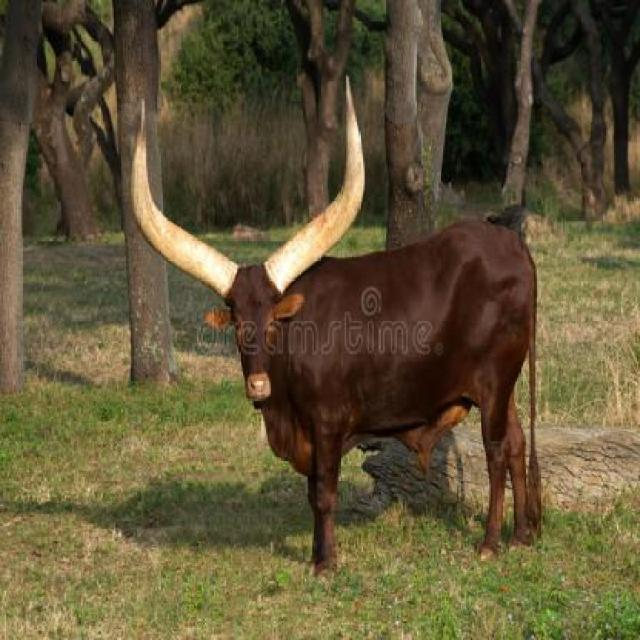Cow: (126, 97, 548, 580)
